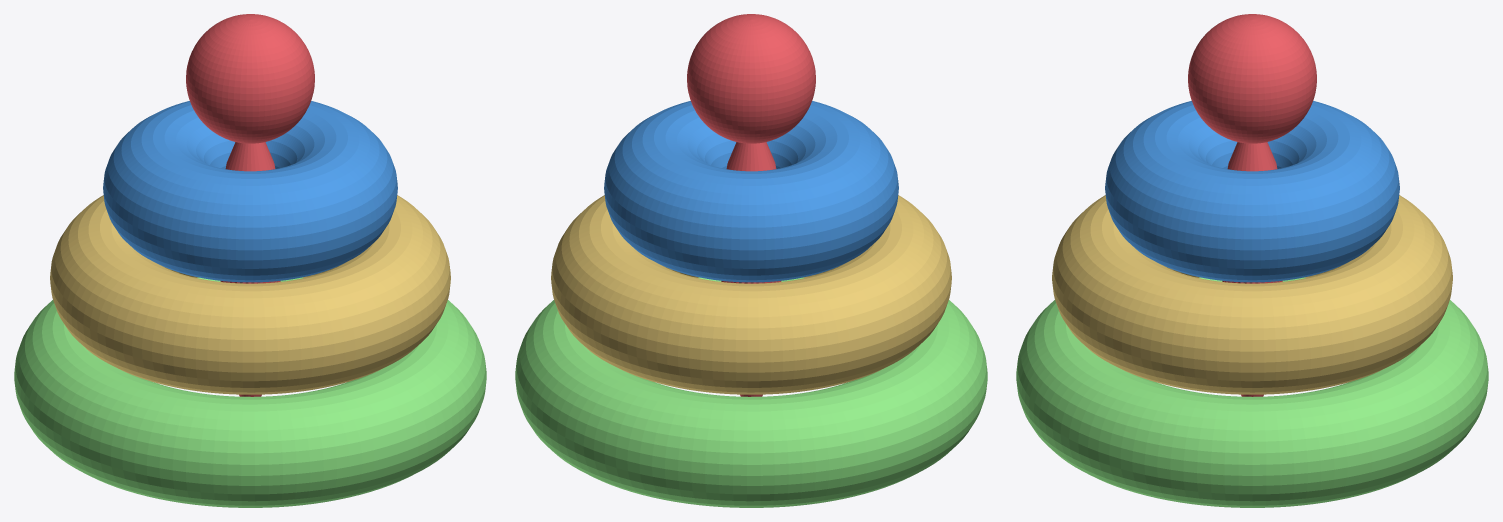
File: toy_cone.fbx
3 views of the same model, side by side, from view 1: azimuth 30°, elevation 25°; view 2: azimuth 150°, elevation 25°; view 3: azimuth 270°, elevation 25° (orthographic).
Parts seen in each view (by area): view 1: Тор.001; view 2: Тор.001; view 3: Тор.001.
Part boxes in pixels (left/top/right/bottom): Тор.001: left=14, top=14, right=486, bottom=507; Тор.001: left=515, top=14, right=987, bottom=507; Тор.001: left=1016, top=14, right=1488, bottom=507.
Bounding box in the file's own units: 57.51 × 54.6 × 57.49.
